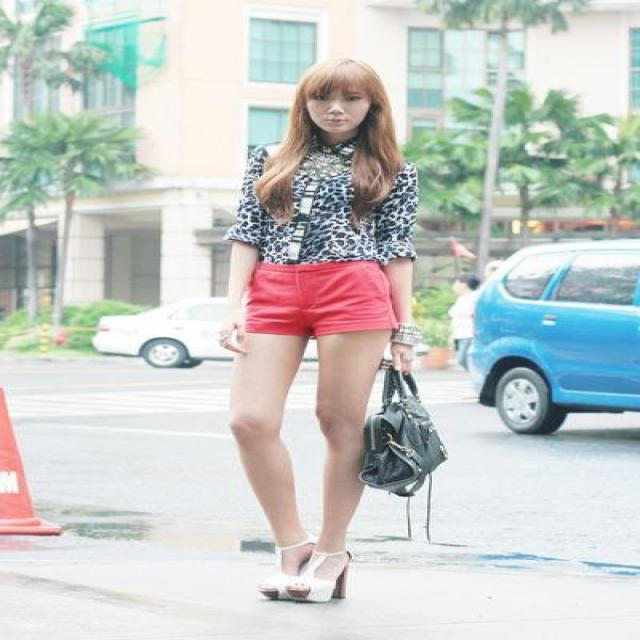bag: (357, 371, 446, 498)
shirt: (211, 152, 419, 268)
shoe: (258, 524, 346, 602)
shorts: (244, 260, 402, 342)
